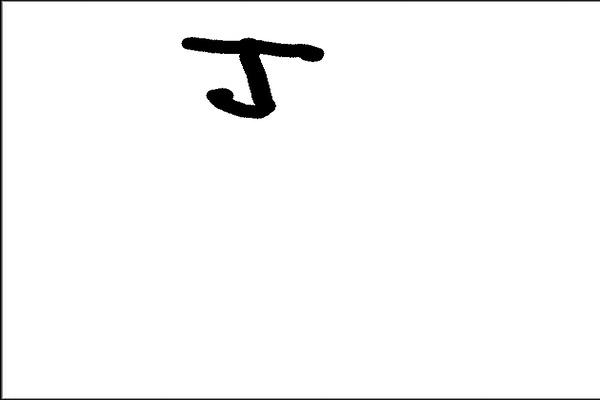J: (175, 29, 332, 124)
